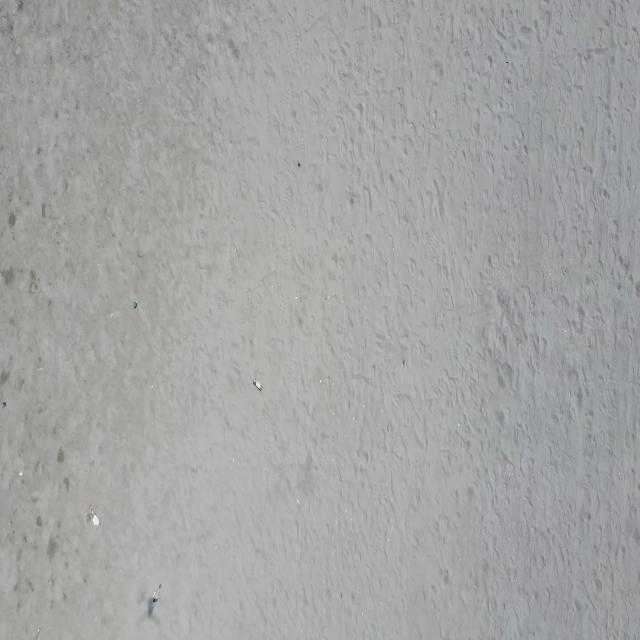glass: (149, 584, 161, 612), (90, 504, 100, 529), (252, 378, 262, 391), (134, 300, 138, 309)
